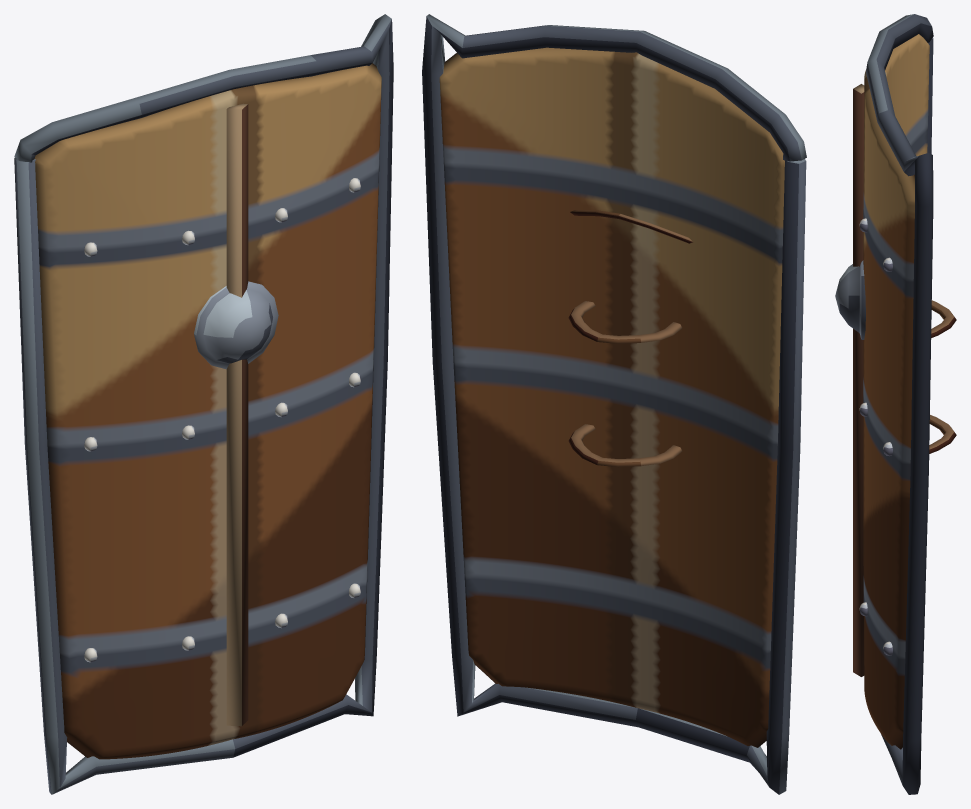
Rendered from sh_tower_shield.glb.
3 views of the same model, side by side, from view 1: azimuth 30°, elevation 25°; view 2: azimuth 150°, elevation 25°; view 3: azimuth 270°, elevation 25° (orthographic). The views are drawn at different scales.
Visible parts, largest first — view 1: Weapon; view 2: Weapon; view 3: Weapon.
Boxes of the visible parts, x1,y1,x2,y2 form: Weapon: [14, 14, 393, 794]; Weapon: [422, 14, 806, 794]; Weapon: [835, 14, 956, 794].
Size of the model in its own units: 0.4863 by 0.862 by 0.1436.
